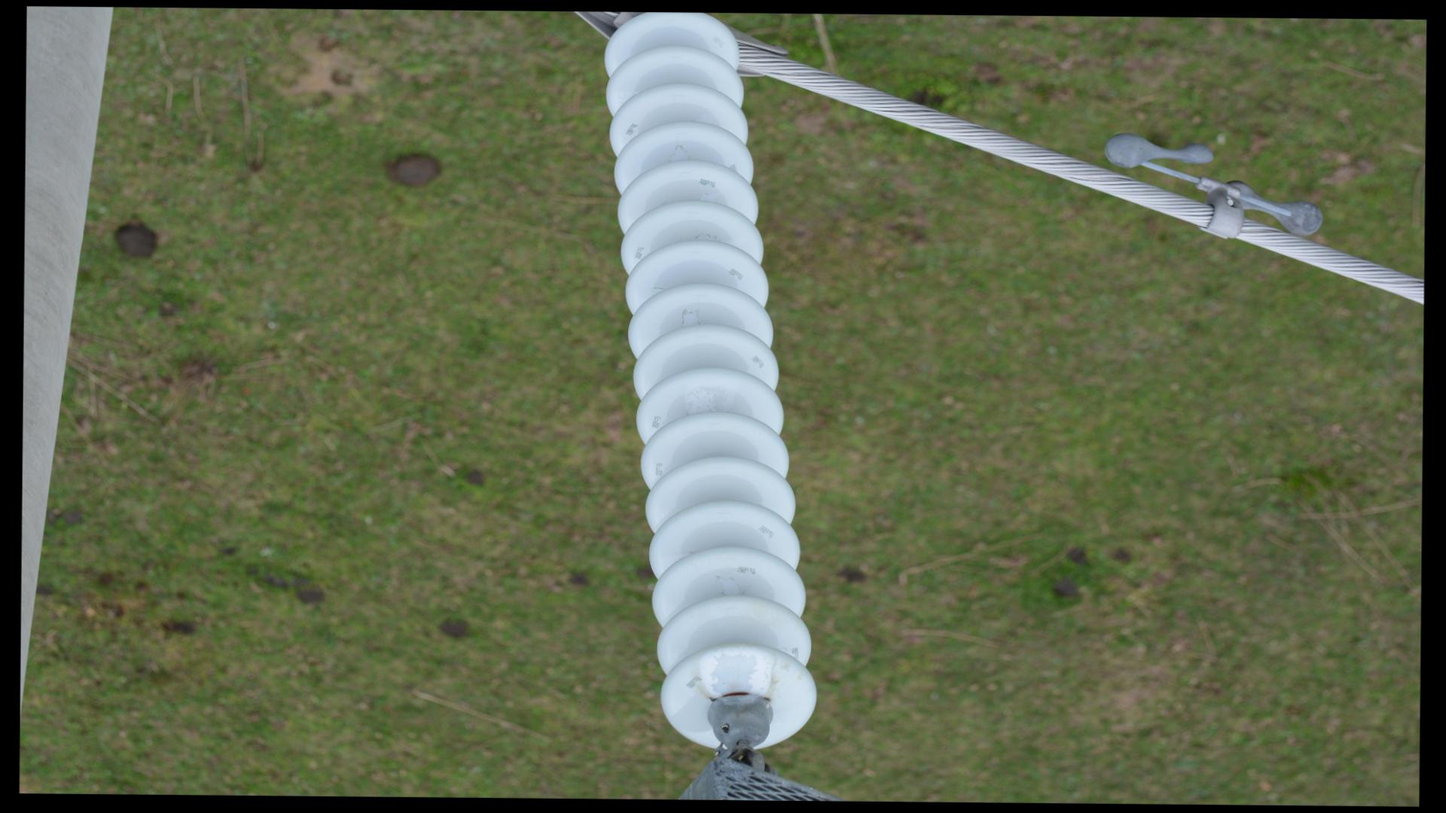damper: (1099, 128, 1329, 246)
